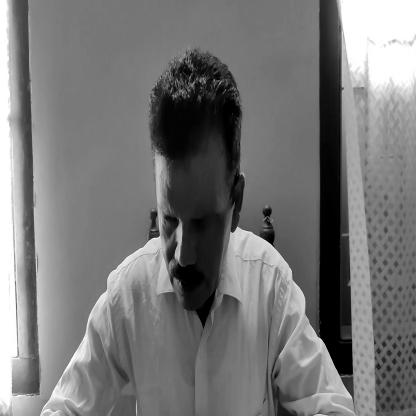Distracted: (148, 43, 245, 315)
